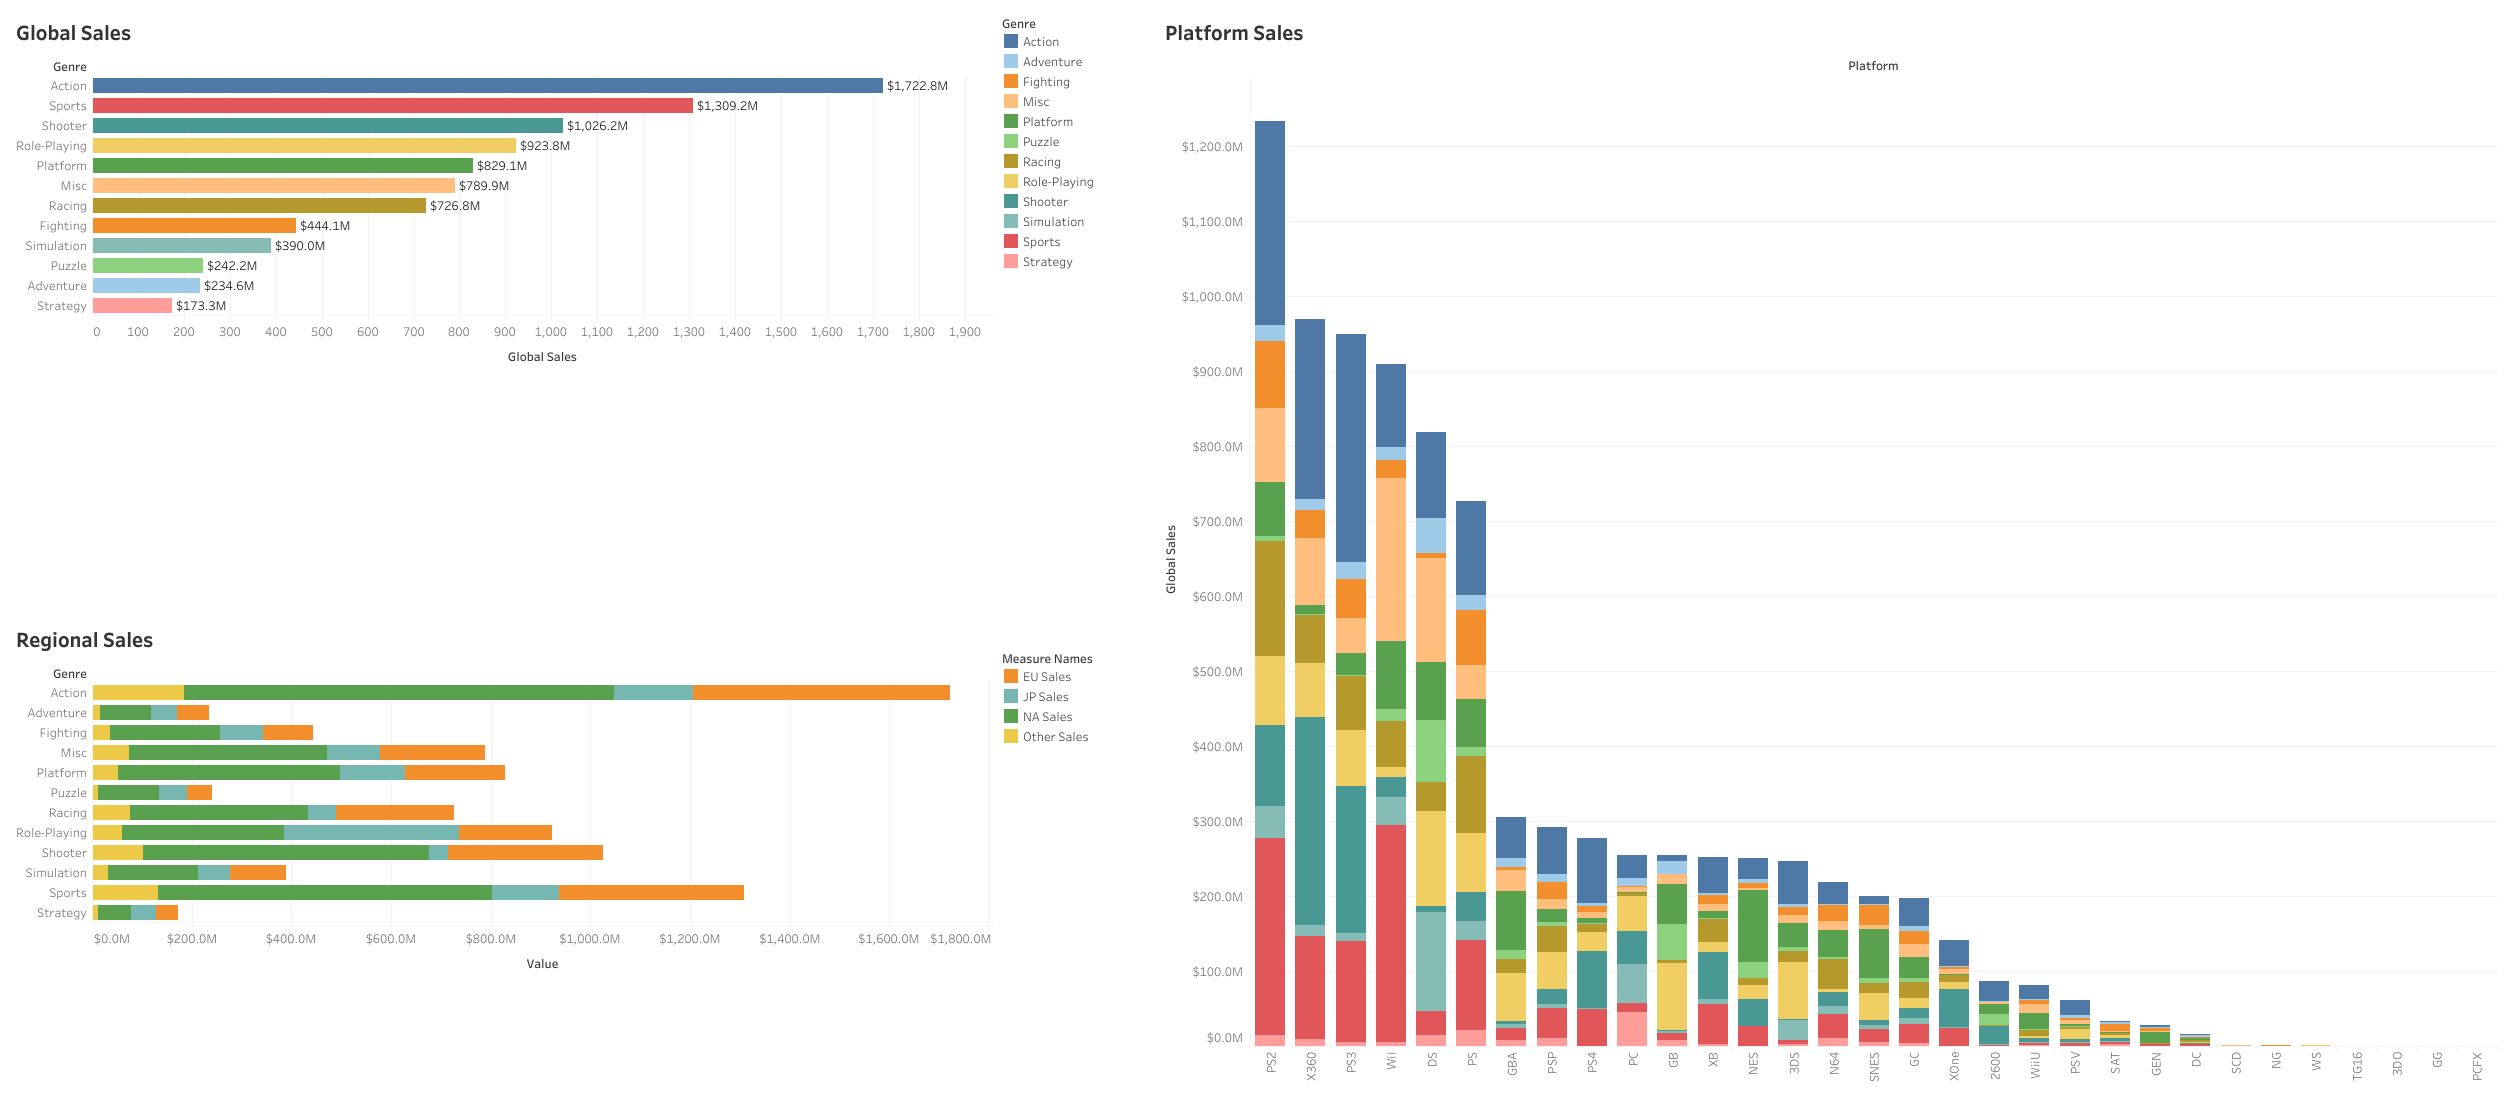

The dashboard page shown, as its layout file describes it:
{"tool":"tableau","page":{"name":"Lifetime Video Game Sales Insights","canvas":[1000,1000],"units":"permille","ordinal":0},"visuals":[{"type":"worksheet","title":"Global Sales","mark":"Automatic","rows":["Genre"],"cols":["Global_Sales"],"box":[3.4,6.6,389.5,553.5]},{"type":"legend","title":"Global Sales","param":"[federated.0h6cvye1xat6sd1h3oyu61yjhf06].[none:Genre:nk]","box":[392.9,6.6,68.1,218.8]},{"type":"worksheet","title":"Platform Sales","mark":"Automatic","rows":["Global_Sales"],"cols":["Platform"],"box":[461.1,6.6,535.5,986.8]},{"type":"worksheet","title":"Regional Sales","mark":"Automatic","rows":["Genre"],"box":[3.4,560,389.5,433.4]},{"type":"legend","title":"Regional Sales","param":"[federated.0h6cvye1xat6sd1h3oyu61yjhf06].[:Measure Names]","box":[392.9,585.5,68.1,87.2]}]}

Visuals, with their boxes on the dashboard's canvas, which has no fixed pixel size, in thousandths of its width and height (x1, y1, x2, y2). These are canvas units, not pixel positions in the 2508x1097 screenshot, which may show the page scaled, cropped or inside an application window:
"Global Sales" worksheet: x1=3 y1=7 x2=393 y2=560
"Global Sales" legend: x1=393 y1=7 x2=461 y2=225
"Platform Sales" worksheet: x1=461 y1=7 x2=997 y2=993
"Regional Sales" worksheet: x1=3 y1=560 x2=393 y2=993
"Regional Sales" legend: x1=393 y1=586 x2=461 y2=673
